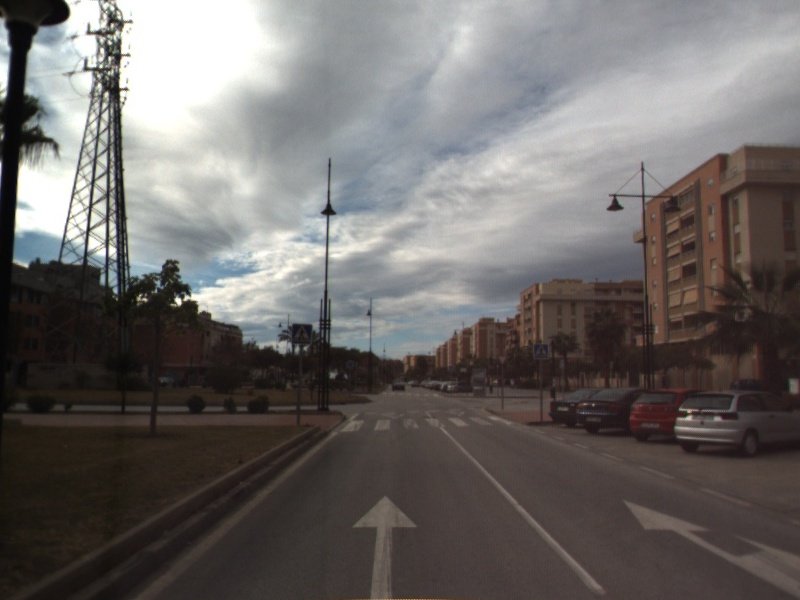STRAIGHT: (350, 494, 419, 600)
STRAIGHT_RIGHT: (621, 498, 800, 598)
